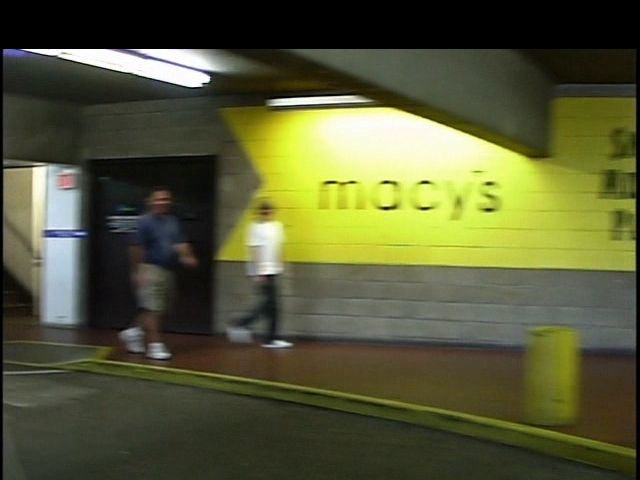person: (99, 182, 186, 364), (208, 191, 289, 361)
